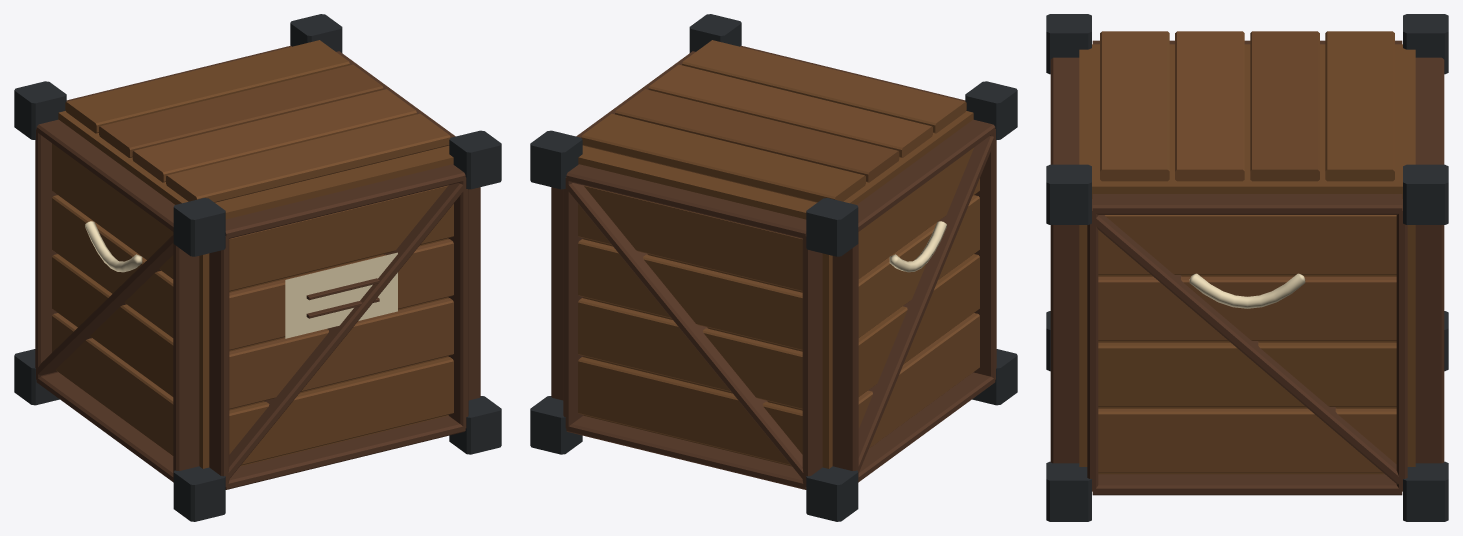
File: prop_cargo_crate_large_a.glb
The picture shows the model from 3 angles, left to right: view 1: azimuth 30°, elevation 25°; view 2: azimuth 150°, elevation 25°; view 3: azimuth 270°, elevation 25°; orthographic projection. The views are drawn at different scales.
Visible parts, largest first — view 1: prop_cargo_crate_large_a_mesh; view 2: prop_cargo_crate_large_a_mesh; view 3: prop_cargo_crate_large_a_mesh.
Part boxes in pixels (<box>): prop_cargo_crate_large_a_mesh: <box>14,14,501,521</box>; prop_cargo_crate_large_a_mesh: <box>530,14,1017,521</box>; prop_cargo_crate_large_a_mesh: <box>1046,14,1448,521</box>.
Size of the model in its own units: 0.884 by 0.82 by 0.884.
